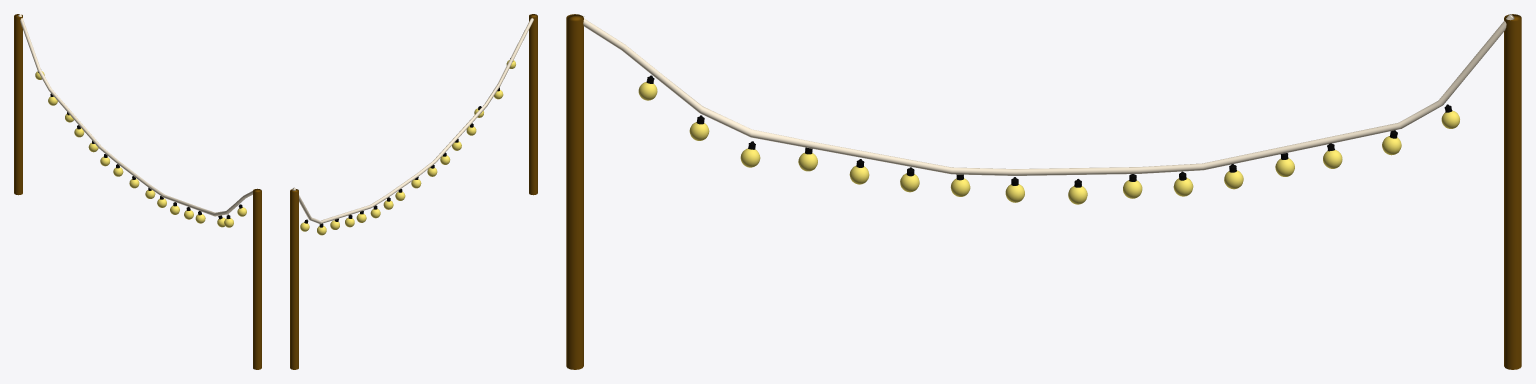
Rendered from light_bulbs.fbx.
3 views of the same model, side by side, from view 1: azimuth 30°, elevation 25°; view 2: azimuth 150°, elevation 25°; view 3: azimuth 270°, elevation 25° (orthographic). The views are drawn at different scales.
Parts seen in each view (by area): view 1: light_bulbs; view 2: light_bulbs; view 3: light_bulbs.
Part boxes in pixels (x1,y1,x2,y2): light_bulbs: [14, 14, 261, 369]; light_bulbs: [290, 14, 537, 369]; light_bulbs: [566, 14, 1521, 369].
Bounding box in the file's own units: 0.00209 × 0.0202 × 0.0497.
2 materials, 2 textured.
